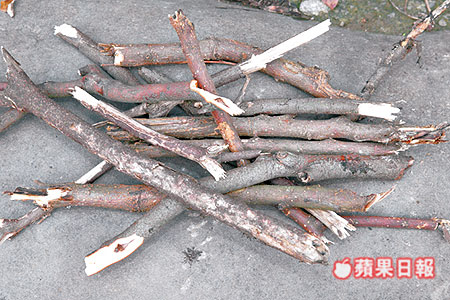wood_together: (16, 16, 403, 253)
